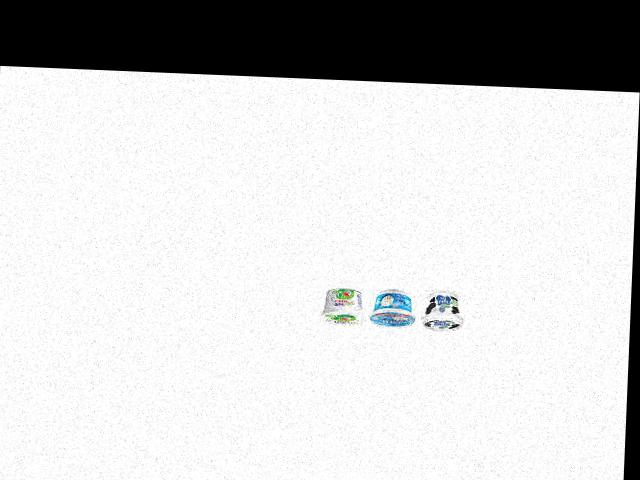cotage: (316, 283, 368, 329)
